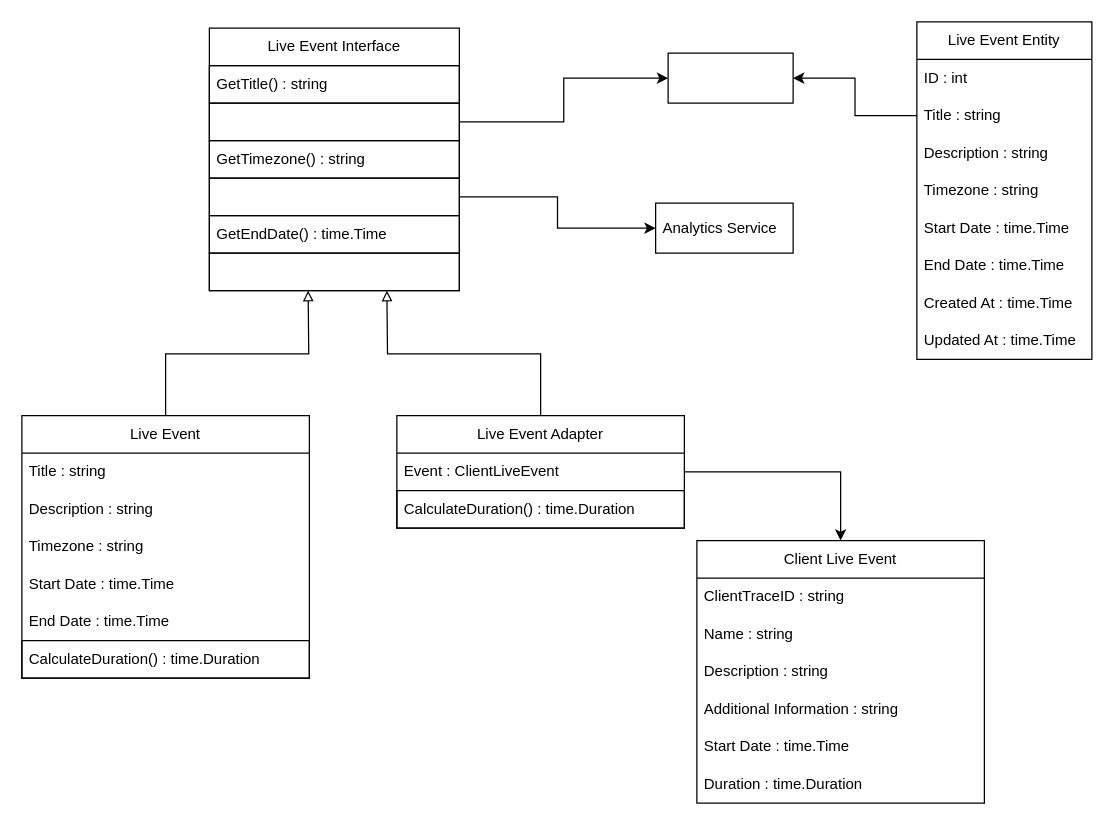
The diagram is 1114 pixels wide and 825 high, and some of its shapes have lost their labels. Each missing label, with the centre of its shape:
"CalculateDuration() : time:Duration" goes at [333,271].
"GetDescription() : string" goes at [333,121].
"GetStartDate() : time.Time" goes at [333,196].
"Storage Service" goes at [730,77].
